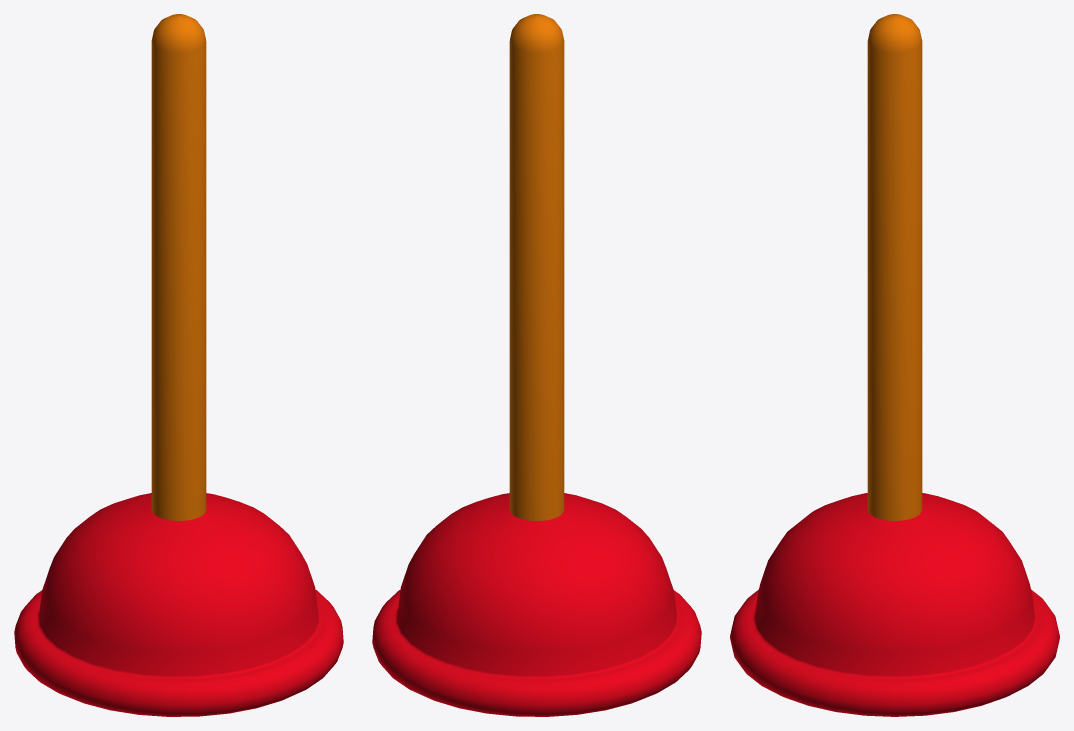
Rendered from Plunger.fbx.
3 renders of one model, left to right at view 1: azimuth 30°, elevation 25°; view 2: azimuth 150°, elevation 25°; view 3: azimuth 270°, elevation 25°, orthographic.
Parts seen in each view (by area): view 1: Sphere; view 2: Sphere; view 3: Sphere.
Boxes of the visible parts, <box> form: Sphere: <box>14,14,343,716</box>; Sphere: <box>372,14,701,716</box>; Sphere: <box>730,14,1059,716</box>.
Size of the model in its own units: 235 by 501 by 235.
